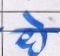e_matra: (23, 12, 45, 29)
